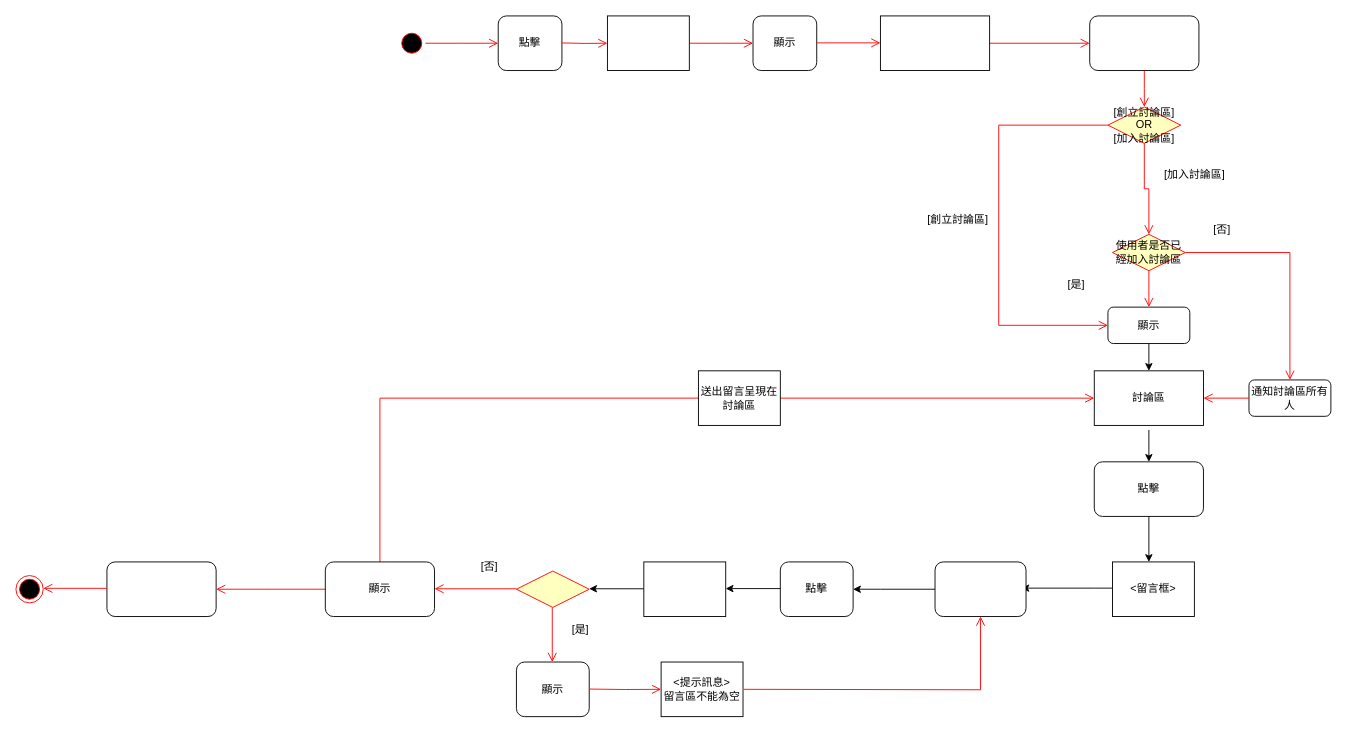
The diagram is 1347 pixels wide and 733 high, and some of its shapes have lost their labels. Here are the shapes that lost their labels. From the top down, the centre of each, then its label:
point 648,43: <討論區按鈕>
point 935,43: "討論區一蘭表"視窗
point 1144,43: 使用者點選
point 161,589: 新增留言至歷史留言資料庫
point 552,588: 留言框是否為空
point 684,589: <送出按鈕>
point 980,589: 使用者輸入留言
